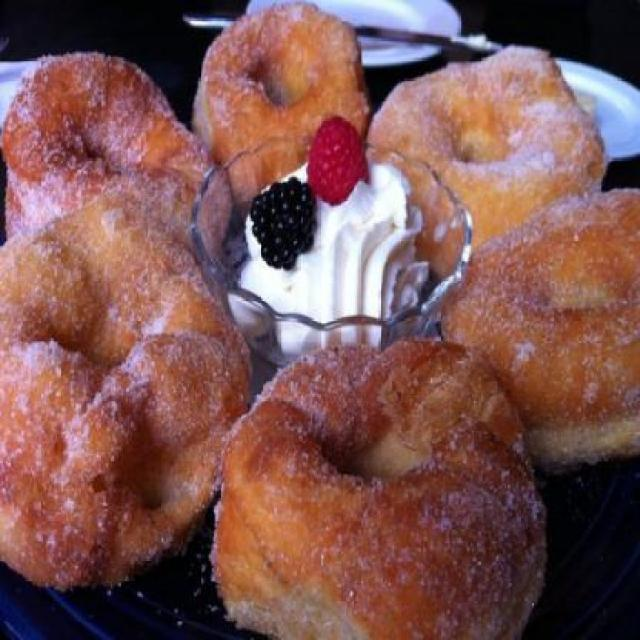Donuts: (2, 39, 226, 606), (386, 40, 640, 474), (214, 334, 538, 638), (184, 3, 362, 165)
